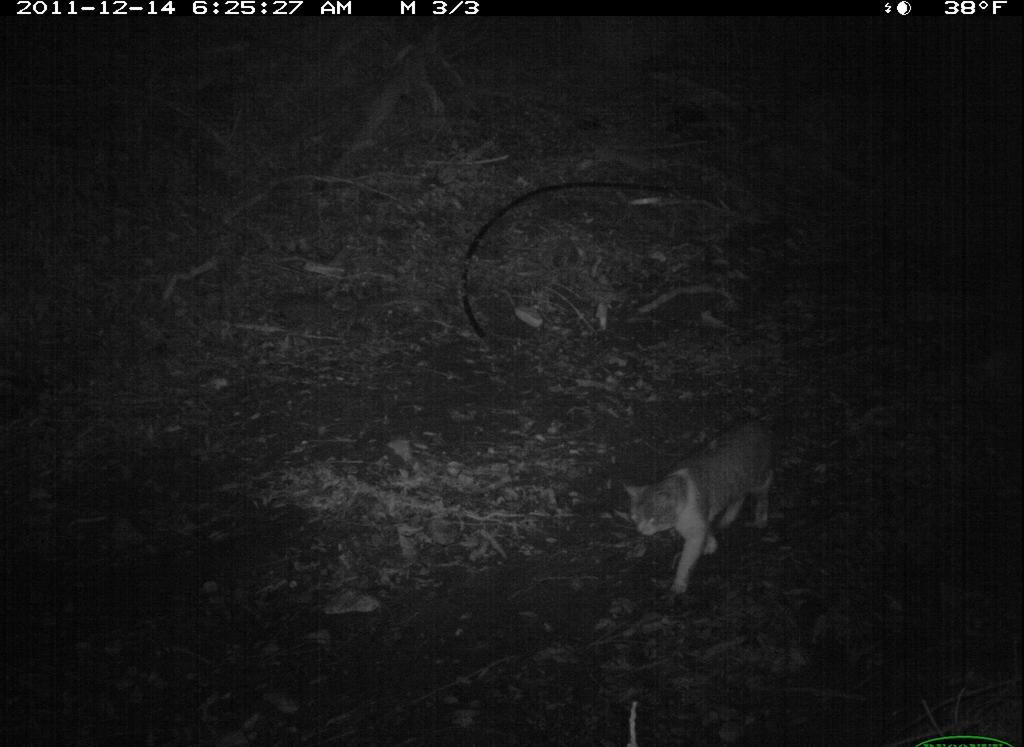cat: (619, 393, 801, 605)
